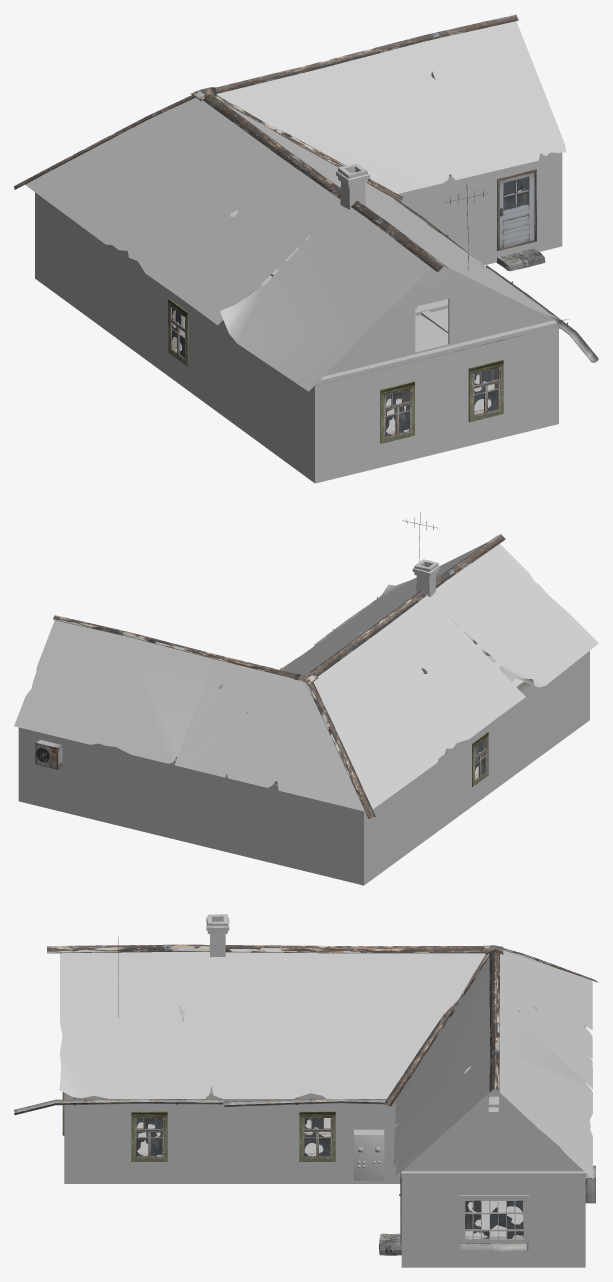
Rendered from Houses_Ready_10_Form2.FBX.
The picture shows the model from 3 angles, top to bottom: view 1: azimuth 30°, elevation 25°; view 2: azimuth 150°, elevation 25°; view 3: azimuth 270°, elevation 25°; orthographic projection. The views are drawn at different scales.
Parts seen in each view (by area): view 1: Roof_04_Form2, Corps_02_10, Attic_02_Form2, Peak_02_Form2, Windows_11 (×2), Door_06, Windows_11_2, Chimney_01, Drain_02, Porch_01_2, Door_06_Frame; view 2: Roof_04_Form2, Corps_02_10, Peak_02_Form2, Air_03, Chimney_01, Windows_11; view 3: Roof_04_Form2, Corps_02_10, Attic_02_Form2, Peak_02_Form2, Drain_02, Windows_Big_02, Electrical_Box_01, Windows_11, Windows_11_2, Chimney_01, Outflow_Big_01, Porch_01_2.
Part boxes in pixels (x1,y1,x2,y2): Roof_04_Form2: (25,21,569,391); Corps_02_10: (35,152,562,483); Attic_02_Form2: (230,70,557,385); Peak_02_Form2: (14,14,518,272); Windows_11 (×2): (168,298,503,422); Door_06: (499,172,534,248); Windows_11_2: (380,381,414,443); Chimney_01: (336,163,369,209); Drain_02: (393,198,598,362); Porch_01_2: (496,248,545,271); Door_06_Frame: (497,169,536,250); Roof_04_Form2: (14,542,598,811); Corps_02_10: (18,651,589,885); Peak_02_Form2: (53,534,505,818); Air_03: (35,739,62,769); Chimney_01: (412,559,440,597); Windows_11: (472,732,488,786); Roof_04_Form2: (59,950,592,1178); Corps_02_10: (64,1025,585,1267); Attic_02_Form2: (178,974,585,1177); Peak_02_Form2: (47,944,598,1106); Drain_02: (14,1097,394,1115); Windows_Big_02: (459,1195,529,1242); Electrical_Box_01: (354,1129,384,1180); Windows_11: (299,1111,335,1161); Windows_11_2: (131,1111,167,1161); Chimney_01: (206,914,229,956); Outflow_Big_01: (459,1242,528,1251); Porch_01_2: (379,1233,401,1255).
Bounding box in the file's own units: 1522 × 1811 × 749.
